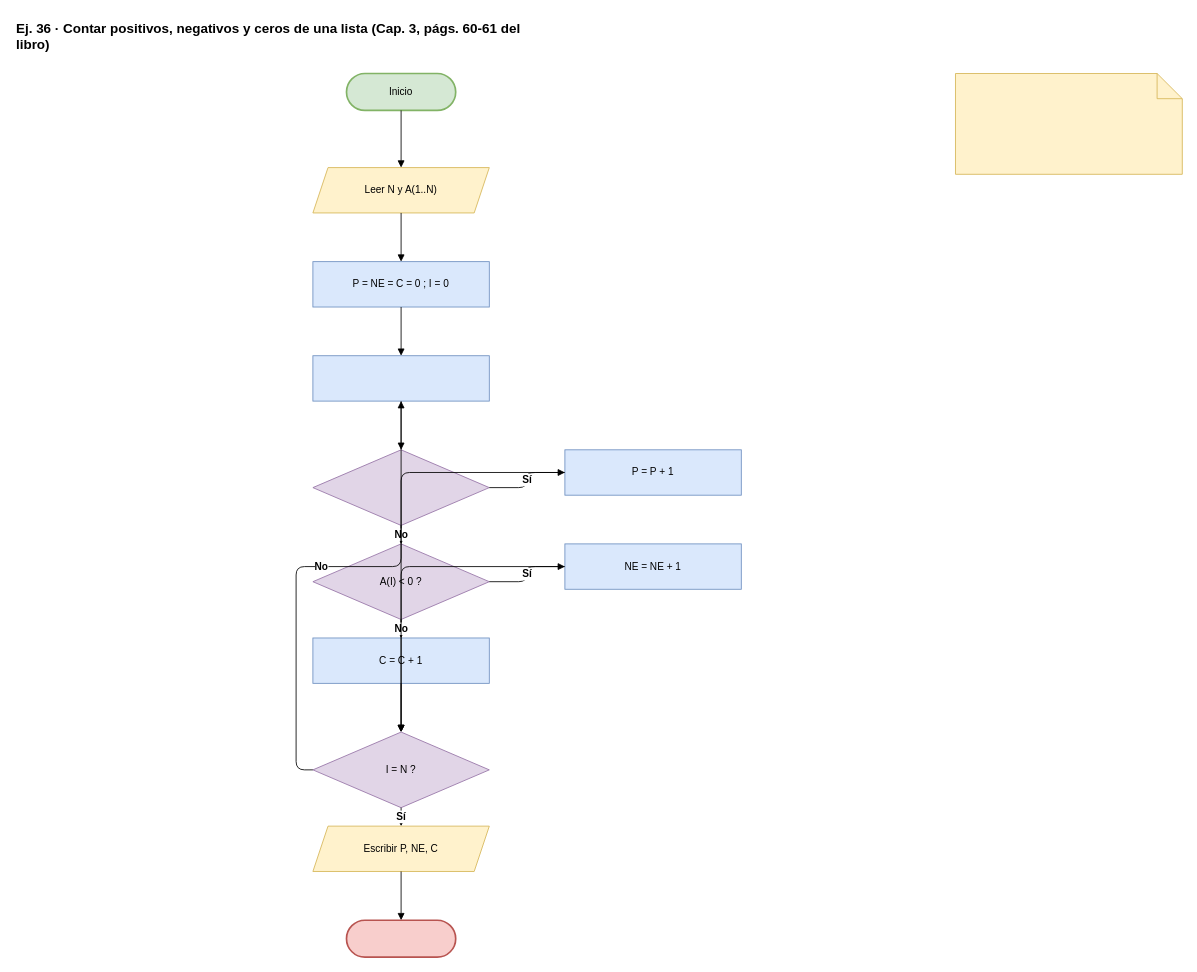
The diagram is 1197 pixels wide and 972 high, and some of its shapes have lost their labels. The box of each missing label's shape, as (x1, y1, x2, y2) in pixels:
A(I) > 0 ?: (312, 449, 489, 525)
Fin: (345, 919, 456, 958)
I = I + 1: (312, 355, 489, 401)
Lista de variables P = positivos NE = negativos C = ceros I = subíndice: (955, 73, 1182, 174)
